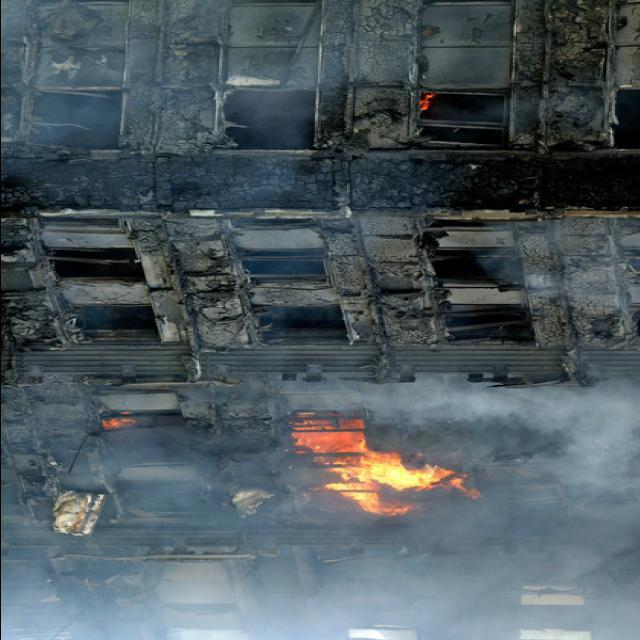Fire: (270, 424, 466, 520)
